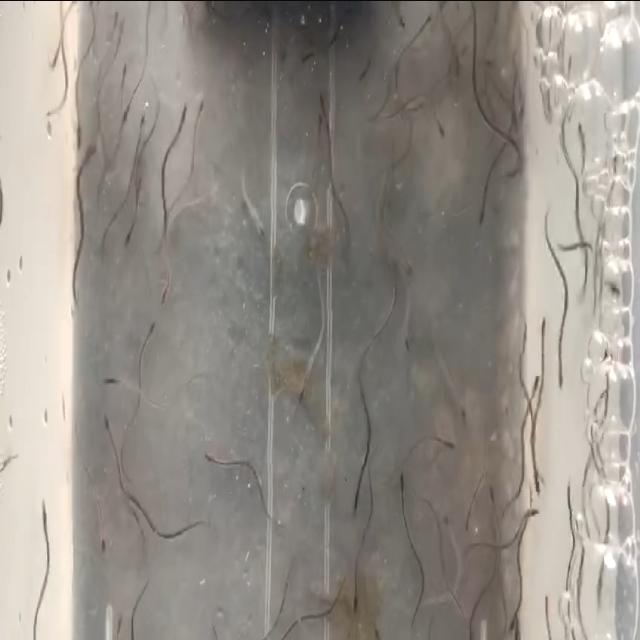active_glass_eel: (158, 256, 174, 306), (572, 111, 586, 168), (296, 365, 310, 415), (452, 394, 472, 428), (437, 428, 458, 460), (102, 362, 126, 389), (602, 270, 622, 302), (528, 452, 544, 490), (72, 99, 84, 149), (191, 88, 207, 124), (316, 88, 328, 136), (594, 577, 606, 625), (130, 112, 146, 146), (400, 326, 416, 360), (430, 114, 448, 144), (122, 217, 136, 255), (118, 48, 130, 92), (538, 590, 554, 622), (96, 518, 108, 560), (528, 362, 542, 398), (100, 406, 116, 436), (177, 92, 189, 132), (106, 0, 118, 40), (550, 363, 564, 397), (300, 40, 316, 68), (392, 50, 404, 86), (476, 194, 488, 228), (396, 461, 406, 501), (114, 604, 125, 640), (85, 135, 96, 171), (145, 310, 157, 342), (201, 443, 217, 467), (368, 617, 384, 640), (516, 504, 542, 518), (314, 106, 324, 142), (351, 576, 359, 618), (38, 488, 46, 529), (354, 478, 362, 518), (115, 6, 126, 34), (482, 486, 499, 504), (423, 4, 434, 30)
